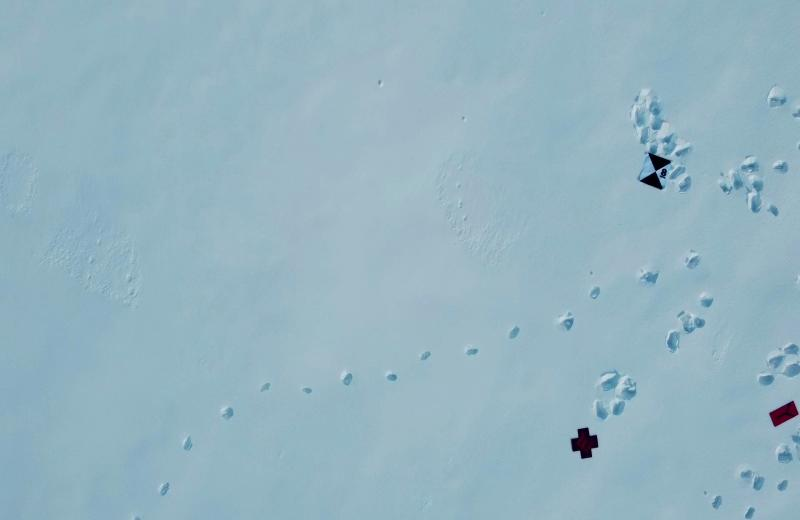Cross: (562, 421, 604, 478)
Rectangle: (750, 376, 800, 441)
